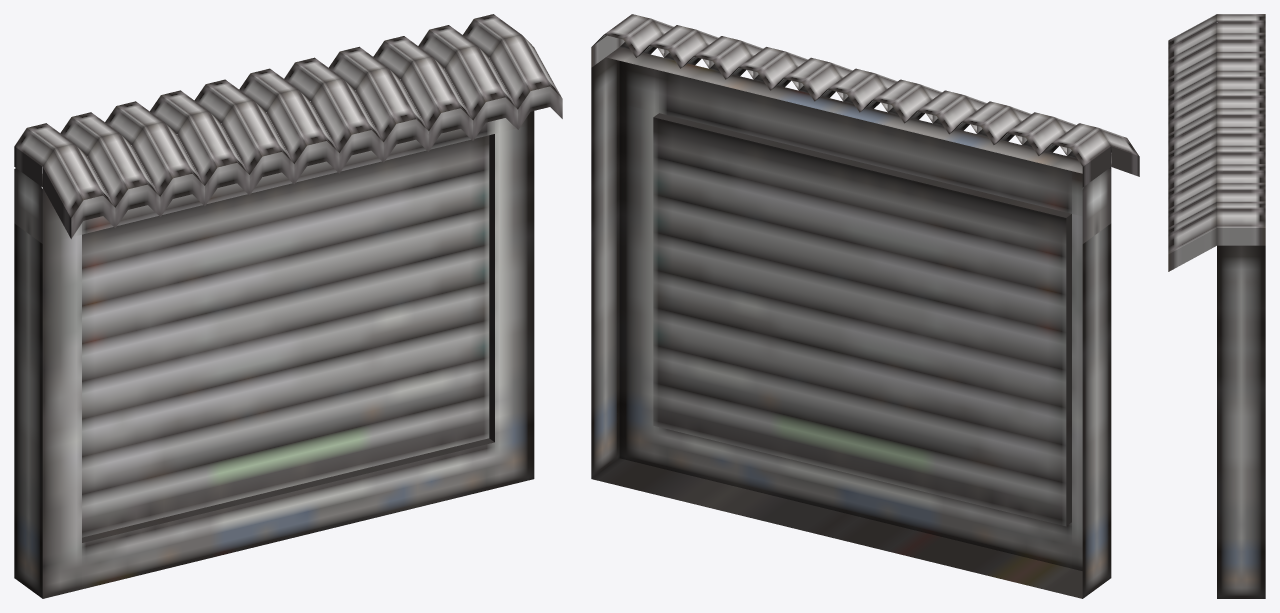
Rendered from Poly_SF_Outside_B_Window_08.obj.
3 renders of one model, left to right at view 1: azimuth 30°, elevation 25°; view 2: azimuth 150°, elevation 25°; view 3: azimuth 270°, elevation 25°, orthographic. The views are drawn at different scales.
Visible parts, largest first — view 1: Cube.001, Cube.002; view 2: Cube.001, Cube.002; view 3: Cube.002, Cube.001.
Boxes of the visible parts, x1,y1,x2,y2 form: Cube.001: (14,111,534,598); Cube.002: (14,14,562,238); Cube.001: (591,47,1111,598); Cube.002: (591,14,1139,187); Cube.002: (1168,14,1265,271); Cube.001: (1217,97,1265,598).
Bounding box in the file's own units: 1 × 0.87 × 0.2.
Materials: 1 (1 with a texture image).
